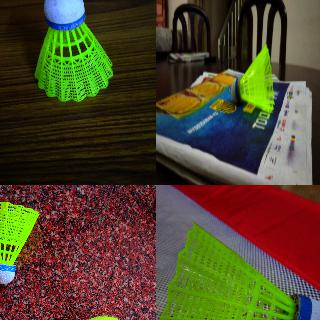shuttlecock: (158, 222, 319, 319), (35, 0, 114, 103), (0, 198, 39, 284), (231, 45, 273, 113)
